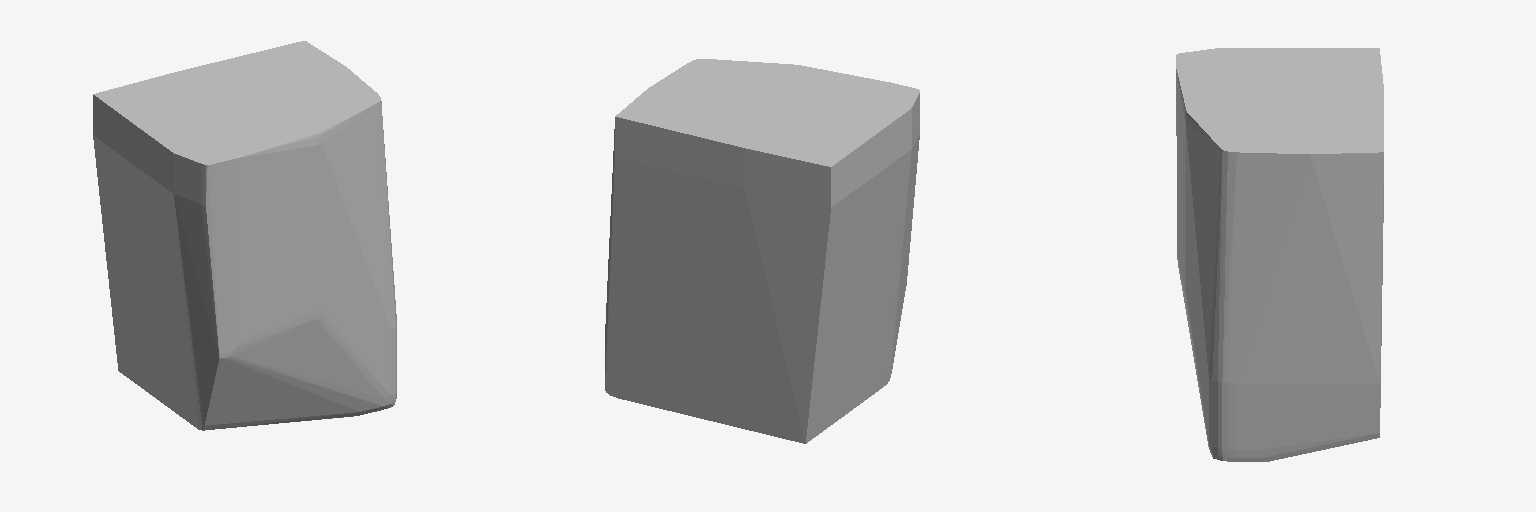
Rendered from Toaster_24_collision_13.obj.
The picture shows the model from 3 angles: view 1: azimuth 30°, elevation 25°; view 2: azimuth 150°, elevation 25°; view 3: azimuth 270°, elevation 25°; orthographic projection.
Bounding box in the file's own units: 0.1032 × 0.1333 × 0.0822.